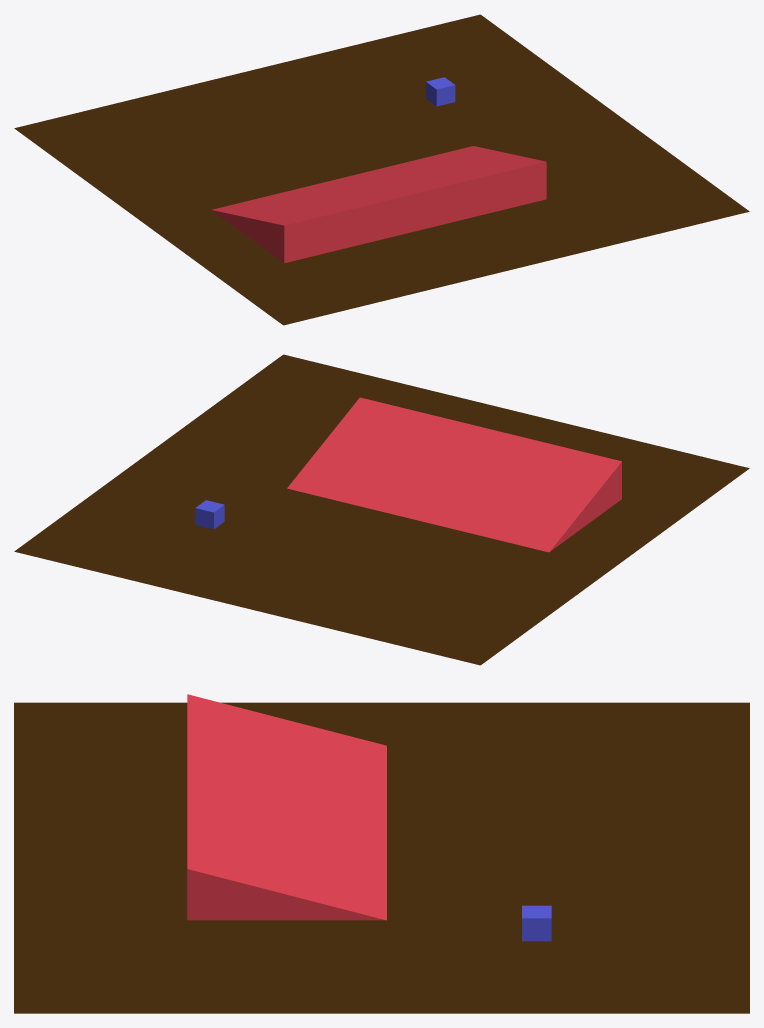
File: TestScene.glb
3 renders of one model, top to bottom at view 1: azimuth 30°, elevation 25°; view 2: azimuth 150°, elevation 25°; view 3: azimuth 270°, elevation 25°, orthographic. The views are drawn at different scales.
Parts seen in each view (by area): view 1: GroundObject, Cube2Obj, Cube1Obj; view 2: GroundObject, Cube2Obj, Cube1Obj; view 3: GroundObject, Cube2Obj, Cube1Obj.
Boxes of the visible parts, x1=… form: GroundObject: x1=14, y1=14, x2=749, y2=325; Cube2Obj: x1=212, y1=146, x2=546, y2=263; Cube1Obj: x1=426, y1=77, x2=455, y2=106; GroundObject: x1=14, y1=354, x2=749, y2=665; Cube2Obj: x1=287, y1=397, x2=621, y2=552; Cube1Obj: x1=195, y1=500, x2=224, y2=529; GroundObject: x1=14, y1=702, x2=749, y2=1013; Cube2Obj: x1=187, y1=694, x2=386, y2=920; Cube1Obj: x1=522, y1=905, x2=551, y2=941.
Bounding box in the file's own units: 50 × 4.12 × 50.
